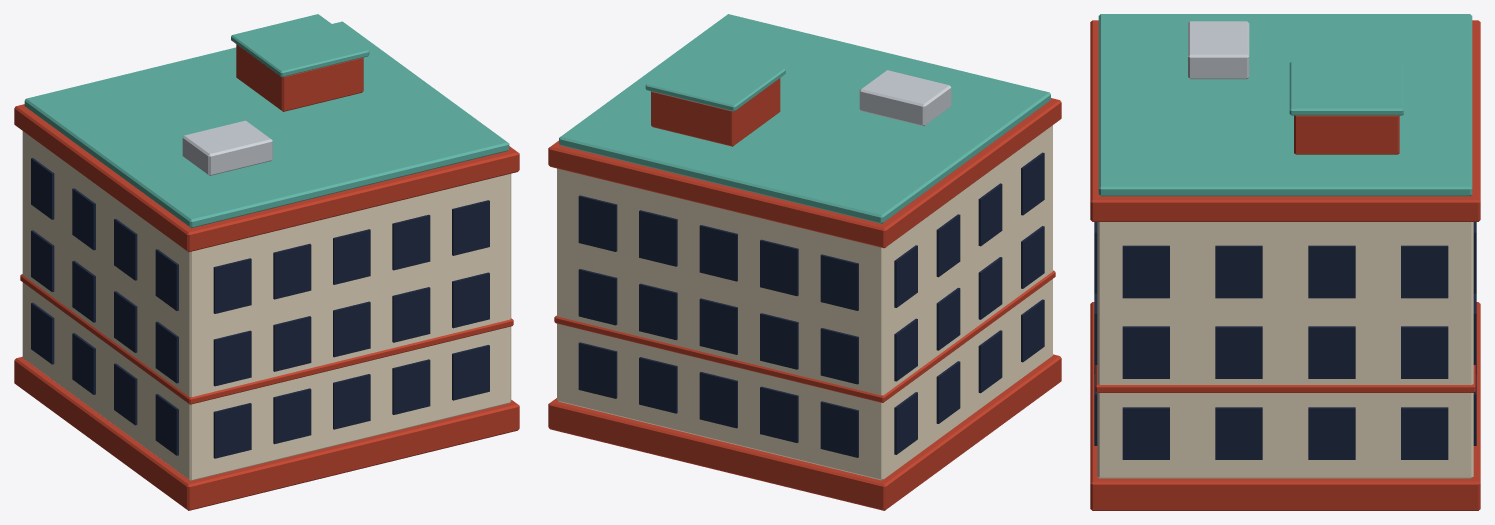
Rendered from building_near_b.obj.
3 renders of one model, left to right at view 1: azimuth 30°, elevation 25°; view 2: azimuth 150°, elevation 25°; view 3: azimuth 270°, elevation 25°, orthographic. The views are drawn at different scales.
Parts seen in each view (by area): view 1: body, roof, plinth, cornice, stair_roof, stair_head, belt_course, roof_unit, win_a_zp_0, win_a_zp_1, win_b_zp_0, win_b_zp_1 (+23 smaller); view 2: body, roof, plinth, cornice, stair_roof, stair_head, belt_course, roof_unit, win_a_zm_4, win_c_zm_4, win_b_zm_4, win_b_zm_3 (+23 smaller); view 3: body, roof, plinth, cornice, stair_roof, stair_head, roof_unit, belt_course, win_c_xp_1, win_c_xp_2, win_c_xp_0, win_c_xp_3 (+8 smaller).
Boxes of the visible parts, left/top/right/bottom form: body: left=22, top=131, right=511, bottom=480; roof: left=24, top=21, right=509, bottom=228; plinth: left=14, top=356, right=519, bottom=510; cornice: left=14, top=104, right=519, bottom=252; stair_roof: left=231, top=14, right=369, bottom=77; stair_head: left=236, top=44, right=363, bottom=111; belt_course: left=20, top=274, right=513, bottom=404; roof_unit: left=182, top=120, right=272, bottom=175; win_a_zp_0: left=213, top=403, right=251, bottom=458; win_a_zp_1: left=273, top=388, right=311, bottom=444; win_b_zp_0: left=213, top=330, right=251, bottom=386; win_b_zp_1: left=273, top=316, right=311, bottom=371; body: left=557, top=125, right=1052, bottom=480; roof: left=559, top=14, right=1050, bottom=223; plinth: left=548, top=354, right=1061, bottom=510; cornice: left=548, top=98, right=1061, bottom=248; stair_roof: left=645, top=47, right=785, bottom=111; stair_head: left=651, top=78, right=780, bottom=146; belt_course: left=554, top=270, right=1055, bottom=402; roof_unit: left=859, top=70, right=951, bottom=126; win_a_zm_4: left=578, top=342, right=617, bottom=398; win_c_zm_4: left=578, top=195, right=617, bottom=251; win_b_zm_4: left=578, top=269, right=617, bottom=325; win_b_zm_3: left=639, top=283, right=677, bottom=340; body: left=1097, top=222, right=1473, bottom=478; roof: left=1098, top=14, right=1472, bottom=196; plinth: left=1090, top=302, right=1480, bottom=510; cornice: left=1090, top=20, right=1480, bottom=221; stair_roof: left=1289, top=61, right=1403, bottom=115; stair_head: left=1294, top=115, right=1399, bottom=154; roof_unit: left=1188, top=21, right=1249, bottom=79; belt_course: left=1095, top=365, right=1475, bottom=392; win_c_xp_1: left=1308, top=245, right=1355, bottom=298; win_c_xp_2: left=1215, top=245, right=1262, bottom=298; win_c_xp_0: left=1401, top=245, right=1448, bottom=298; win_c_xp_3: left=1122, top=245, right=1169, bottom=298.
Size of the model in its own units: 7.7 by 7.3 by 7.
